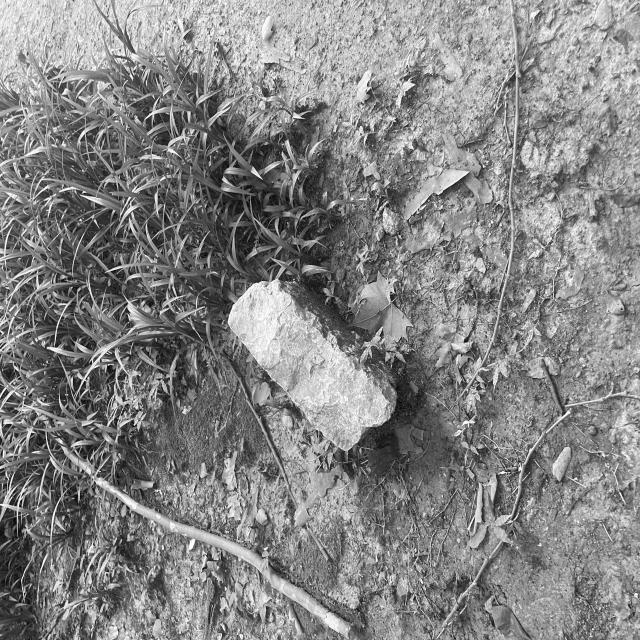Stone: (229, 280, 396, 449)
